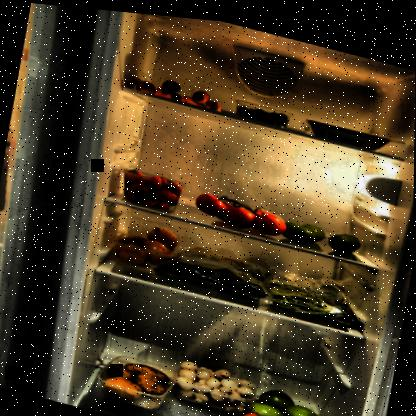apple: (247, 377, 325, 415)
blueberries: (231, 93, 295, 124)
carrot: (134, 68, 229, 110)
green_beans: (259, 260, 370, 325)
lime: (278, 210, 363, 252)
mushrooms: (167, 356, 259, 412)
onion: (108, 213, 181, 275)
potato: (96, 346, 180, 407)
spinach: (150, 233, 271, 296)
strawberries: (117, 161, 187, 212)
sweet_potato: (231, 399, 285, 415), (285, 413, 349, 415)
tomato: (193, 180, 291, 236)
